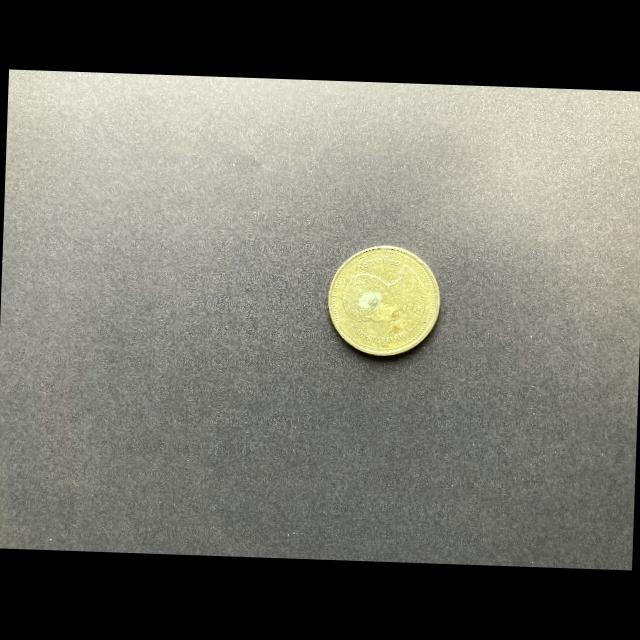2 Bath: (327, 243, 446, 360)
